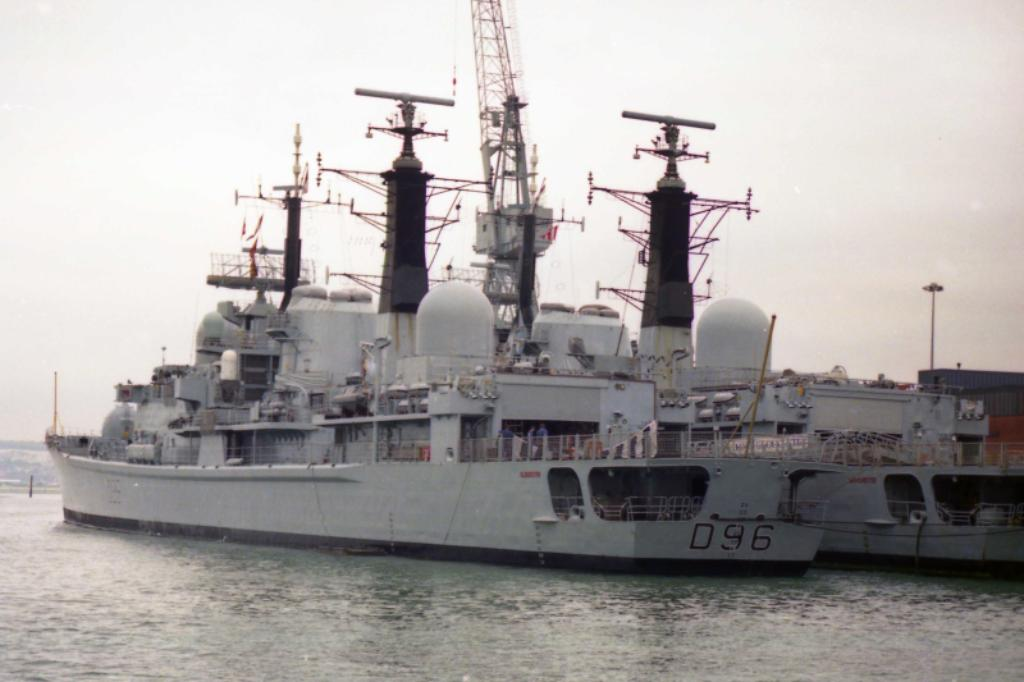Warship: (44, 0, 852, 574), (570, 82, 1024, 578)
